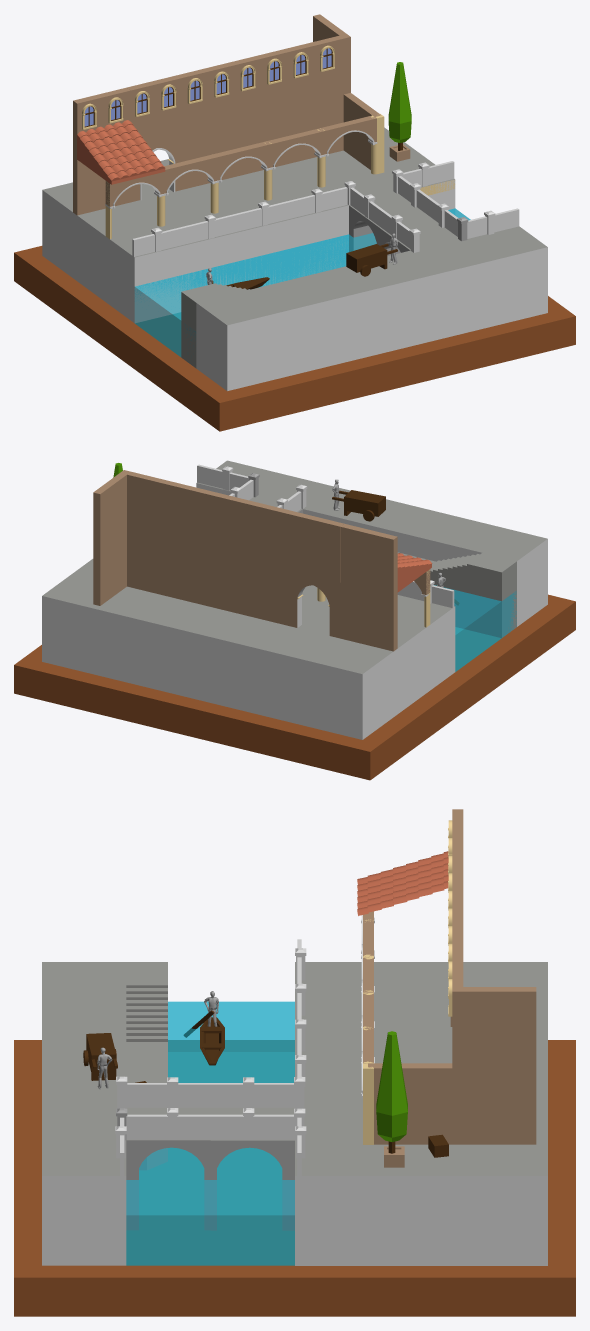
The model's file is huis.FBX.
3 renders of one model, top to bottom at view 1: azimuth 30°, elevation 25°; view 2: azimuth 150°, elevation 25°; view 3: azimuth 270°, elevation 25°, orthographic. The views are drawn at different scales.
Parts seen in each view (by area): view 1: Component_76_1, Component_73_1, Component_72_1, Component_74_1, Cylinder001, Component_5_4, Component_5_2, Component_5_3, Component_5_8, Component_5_10, Component_5_9, Component_5_7 (+21 smaller); view 2: Component_73_1, Component_72_1, Component_76_1, Component_95_1, Component_5_5, Component_74_1, Component_5_8, Component_5_1, Component_5_4, Component_5_3, Component_5_2, Component_5_9 (+12 smaller); view 3: Component_72_1, Component_73_1, Component_74_1, Component_76_1, Component_5_12, Component_5_11, Component_5_6, Cylinder001, Component_79_1, Component_79_2, Component_95_1, Component_89_1 (+8 smaller).
Part boxes in pixels (x1,y1,x2,y2): Component_76_1: [196, 226, 547, 391]; Component_73_1: [42, 127, 455, 323]; Component_72_1: [14, 246, 575, 431]; Component_74_1: [134, 208, 470, 357]; Cylinder001: [77, 120, 165, 184]; Component_5_4: [180, 61, 237, 133]; Component_5_2: [287, 35, 344, 107]; Component_5_3: [233, 48, 290, 120]; Component_5_8: [127, 74, 184, 142]; Component_5_10: [184, 120, 237, 189]; Component_5_9: [237, 107, 290, 175]; Component_5_7: [291, 94, 343, 163]; Component_73_1: [42, 559, 455, 739]; Component_72_1: [14, 594, 575, 780]; Component_76_1: [196, 460, 547, 626]; Component_95_1: [397, 552, 516, 637]; Component_5_5: [340, 523, 397, 595]; Component_74_1: [434, 585, 516, 671]; Component_5_8: [286, 510, 343, 582]; Component_5_1: [340, 582, 397, 651]; Component_5_4: [233, 497, 290, 569]; Component_5_3: [180, 484, 236, 556]; Component_5_2: [127, 471, 183, 543]; Component_5_9: [179, 543, 233, 612]; Component_72_1: [14, 1040, 575, 1316]; Component_73_1: [295, 962, 547, 1265]; Component_74_1: [126, 1001, 294, 1265]; Component_76_1: [42, 962, 126, 1265]; Component_5_12: [452, 987, 536, 1068]; Component_5_11: [452, 1068, 536, 1144]; Component_5_6: [368, 1063, 452, 1144]; Cylinder001: [357, 851, 448, 915]; Component_79_1: [210, 1107, 294, 1230]; Component_79_2: [126, 1107, 210, 1230]; Component_95_1: [126, 962, 167, 1170]; Component_89_1: [376, 1031, 407, 1141].
Bounding box in the file's own units: 10000 × 5532 × 10000.
